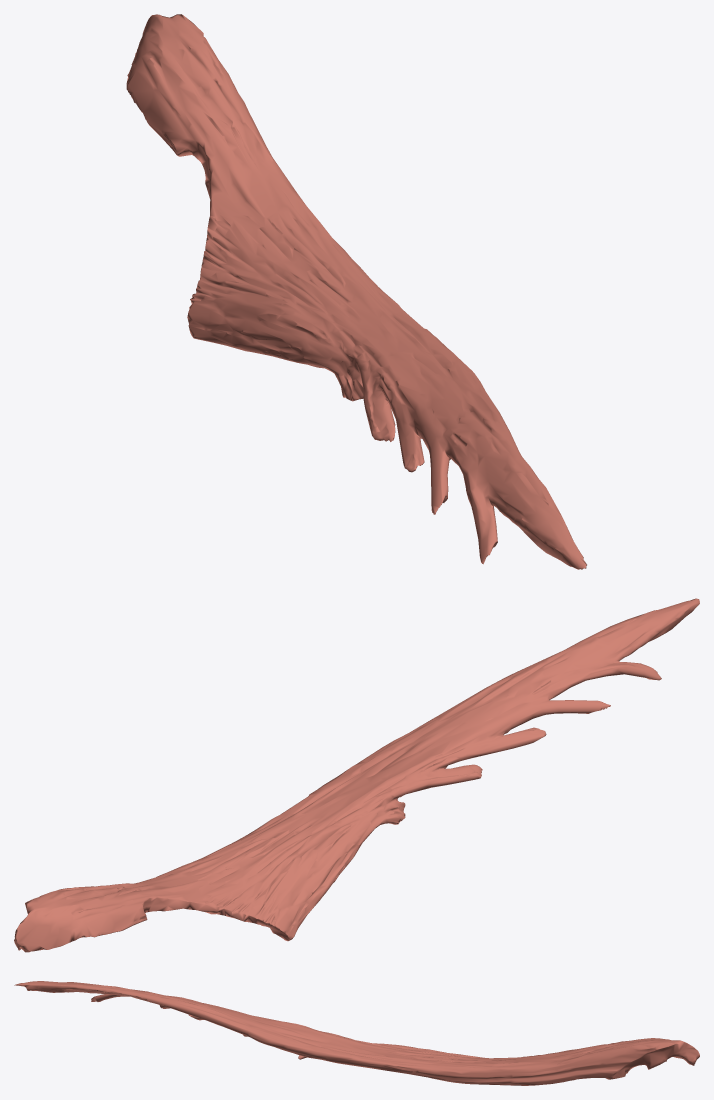
3 renders of one model, top to bottom at view 1: azimuth 30°, elevation 25°; view 2: azimuth 150°, elevation 25°; view 3: azimuth 270°, elevation 25°, orthographic. The views are drawn at different scales.
Visible parts, largest first — view 1: 右侧腰髂肋肌; view 2: 右侧腰髂肋肌; view 3: 右侧腰髂肋肌.
Part boxes in pixels (x1,y1,x2,y2): 右侧腰髂肋肌: (126,14,586,569); 右侧腰髂肋肌: (14,598,699,952); 右侧腰髂肋肌: (14,981,699,1085).
Bounding box in the file's own units: 0.1393 × 0.07 × 0.575.
